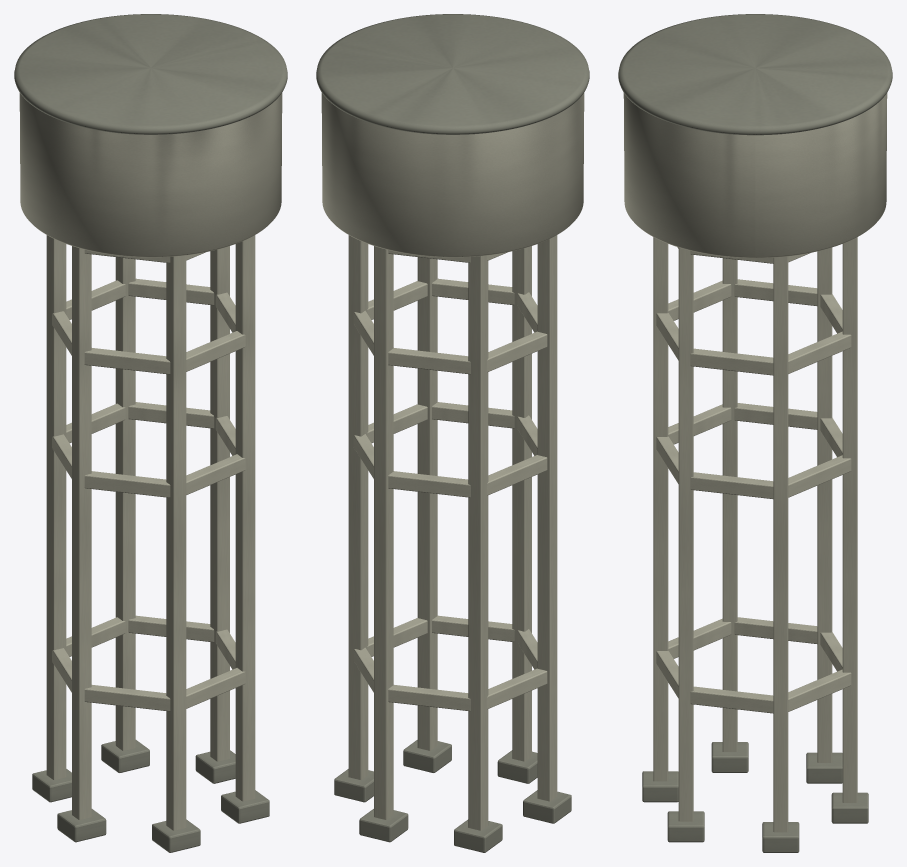
The model's file is high-road-tank.glb.
3 views of the same model, side by side, from view 1: azimuth 30°, elevation 25°; view 2: azimuth 150°, elevation 25°; view 3: azimuth 270°, elevation 25° (orthographic).
Visible parts, largest first — view 1: Pale reinforced concrete - original generated texture, Weathered concrete rim and underside, Aged pale tank render - original generated runoff; view 2: Pale reinforced concrete - original generated texture, Weathered concrete rim and underside, Aged pale tank render - original generated runoff; view 3: Pale reinforced concrete - original generated texture, Weathered concrete rim and underside, Aged pale tank render - original generated runoff.
Part boxes in pixels (<box>): Pale reinforced concrete - original generated texture: <box>46,235,255,830</box>; Weathered concrete rim and underside: <box>14,14,287,852</box>; Aged pale tank render - original generated runoff: <box>19,93,282,257</box>; Pale reinforced concrete - original generated texture: <box>348,235,557,830</box>; Weathered concrete rim and underside: <box>316,14,589,852</box>; Aged pale tank render - original generated runoff: <box>321,93,584,257</box>; Pale reinforced concrete - original generated texture: <box>653,237,857,832</box>; Weathered concrete rim and underside: <box>618,14,892,852</box>; Aged pale tank render - original generated runoff: <box>623,93,887,257</box>.
Size of the model in its own units: 7.08 by 21 by 7.08.
3 materials, 3 textured.
